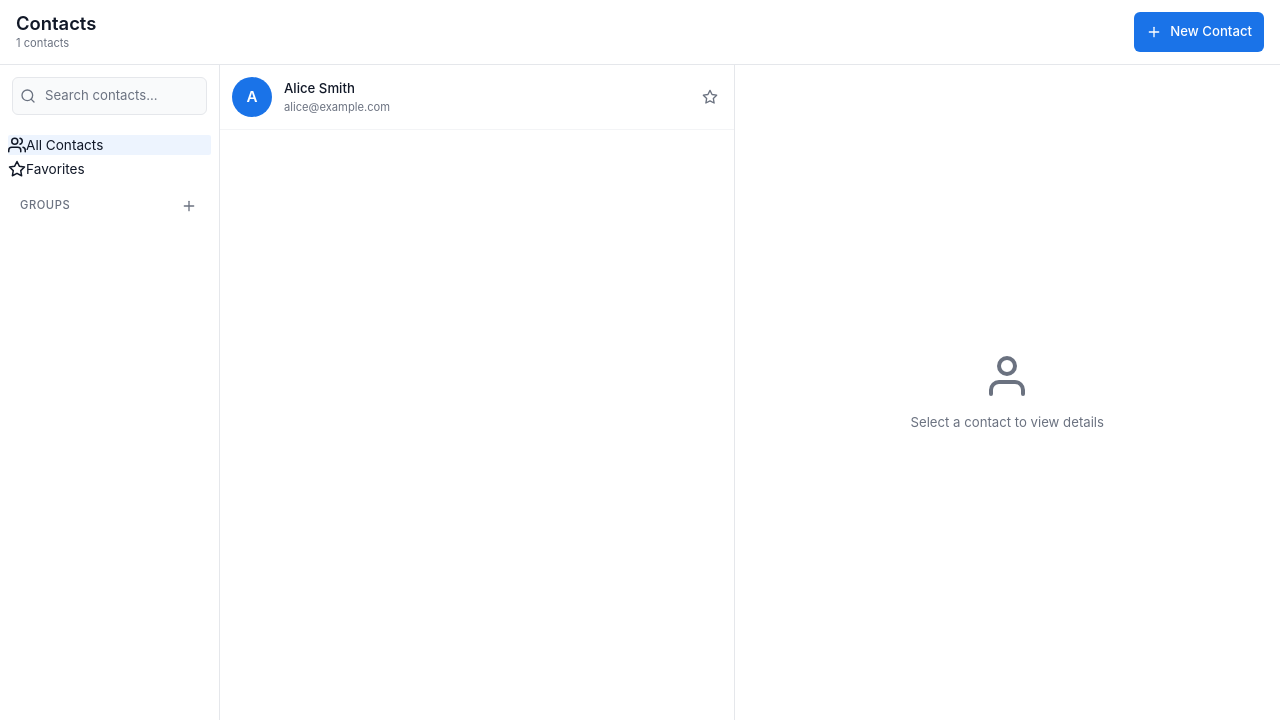
ContactsPanel - Edit contact › shows edit form when Edit button is clicked on a selected contact
Click the text "Alice Smith" at (319, 88), box [284,80,355,96]
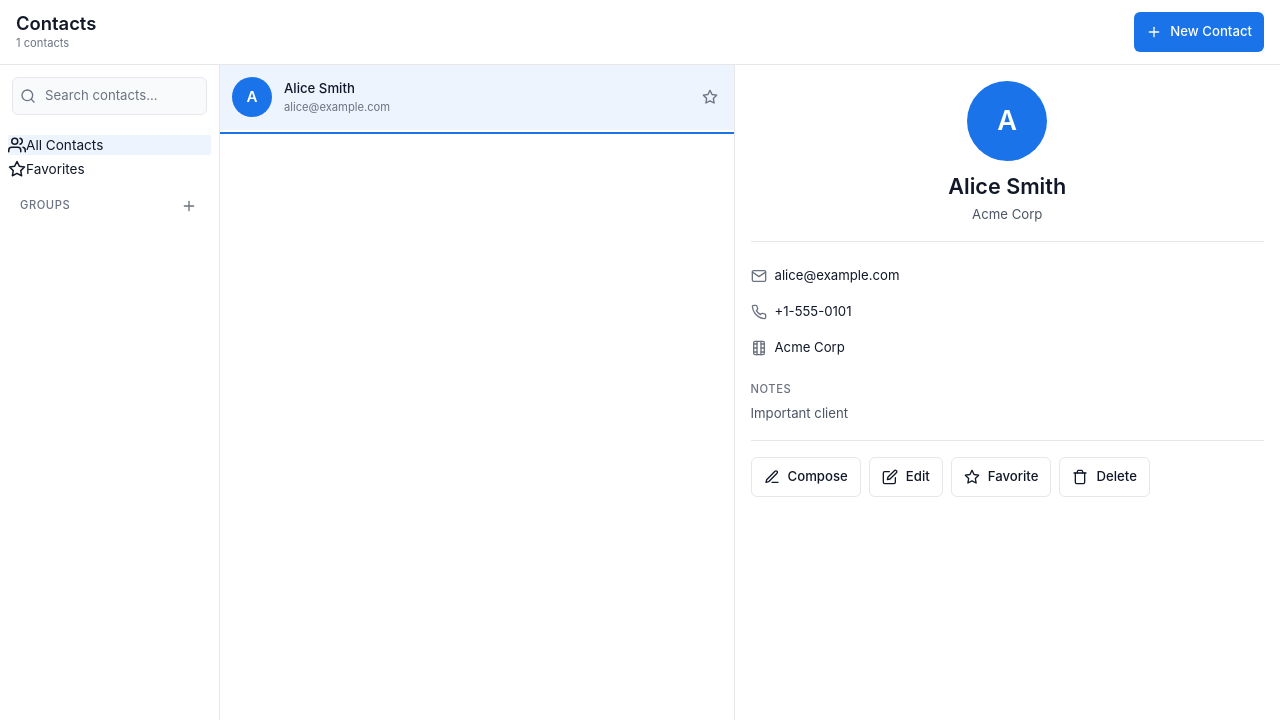
Expected: the button "Edit" is shown
Click the button "Edit" at (906, 477), box [869,457,943,497]
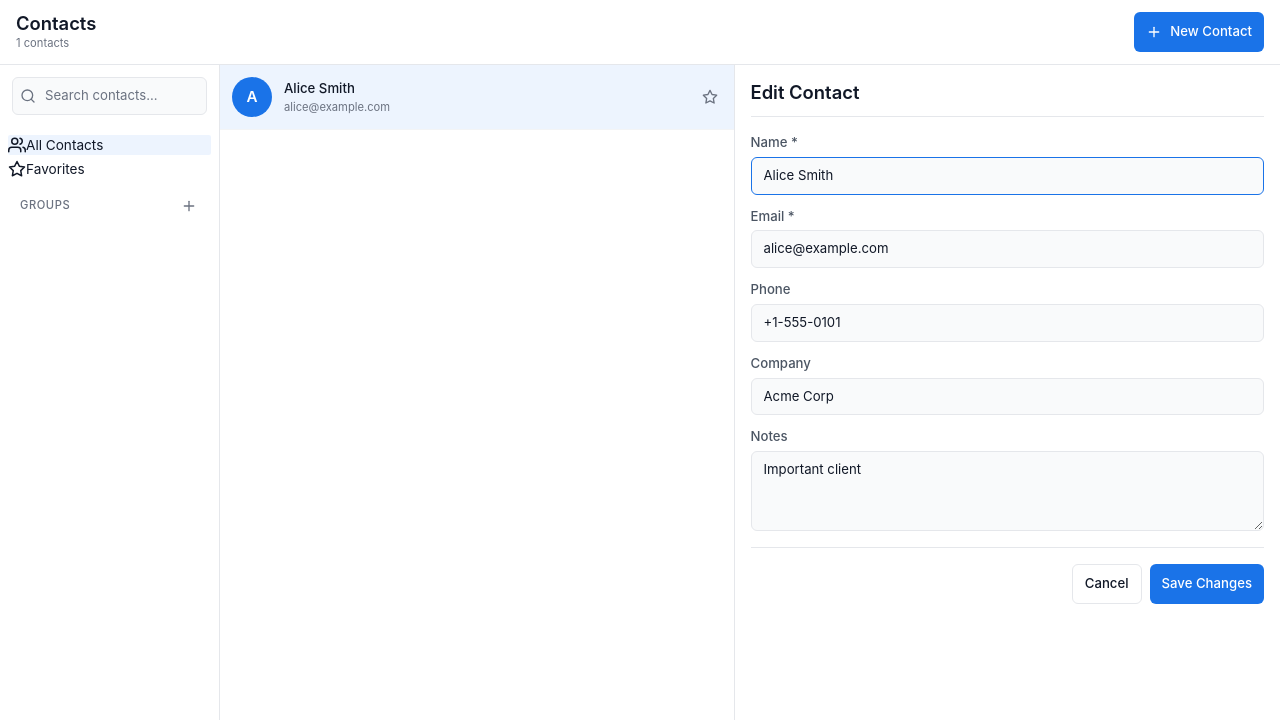
Expected: the heading "Edit Contact" is shown, [750,81,859,103]
Expected: the field labelled "Name *" holds "Alice Smith", [750,157,1264,195]
